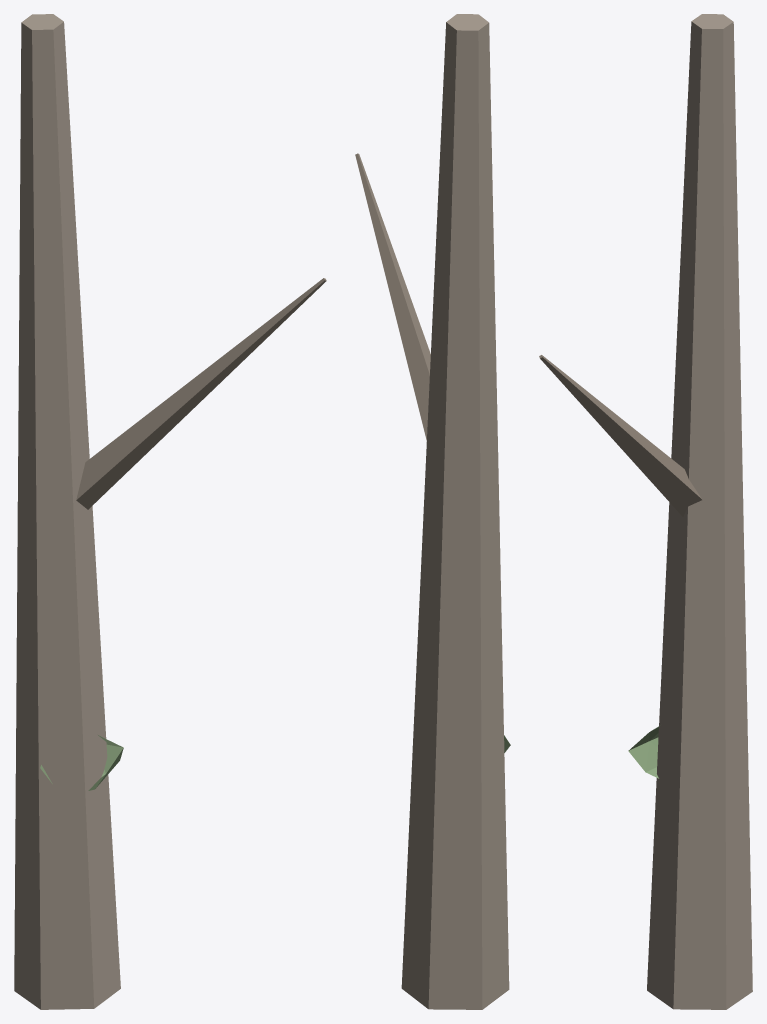
Rendered from snag_v13.glb.
3 views of the same model, side by side, from view 1: azimuth 30°, elevation 25°; view 2: azimuth 150°, elevation 25°; view 3: azimuth 270°, elevation 25° (orthographic).
Visible parts, largest first — view 1: lod0; view 2: lod0; view 3: lod0.
Part boxes in pixels (left/top/right/bottom): lod0: left=14, top=14, right=326, bottom=1009; lod0: left=355, top=14, right=510, bottom=1009; lod0: left=539, top=14, right=752, bottom=1009.
Size of what is drawn, in the model's own units: 0.9273 by 3.91 by 0.7864.
